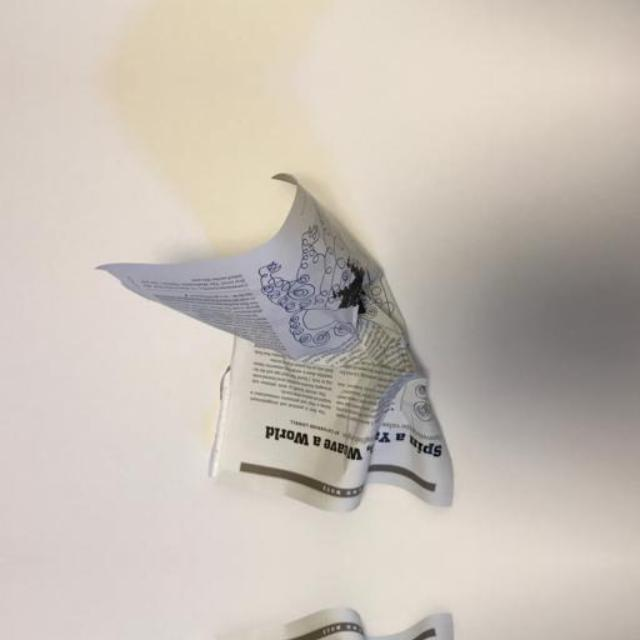paper: (92, 164, 466, 536), (92, 584, 466, 640)
